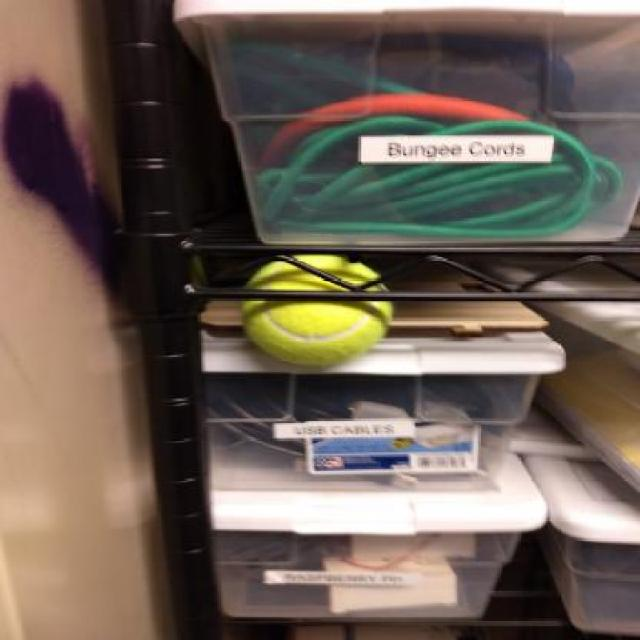tennis-ball: (245, 255, 392, 366)
